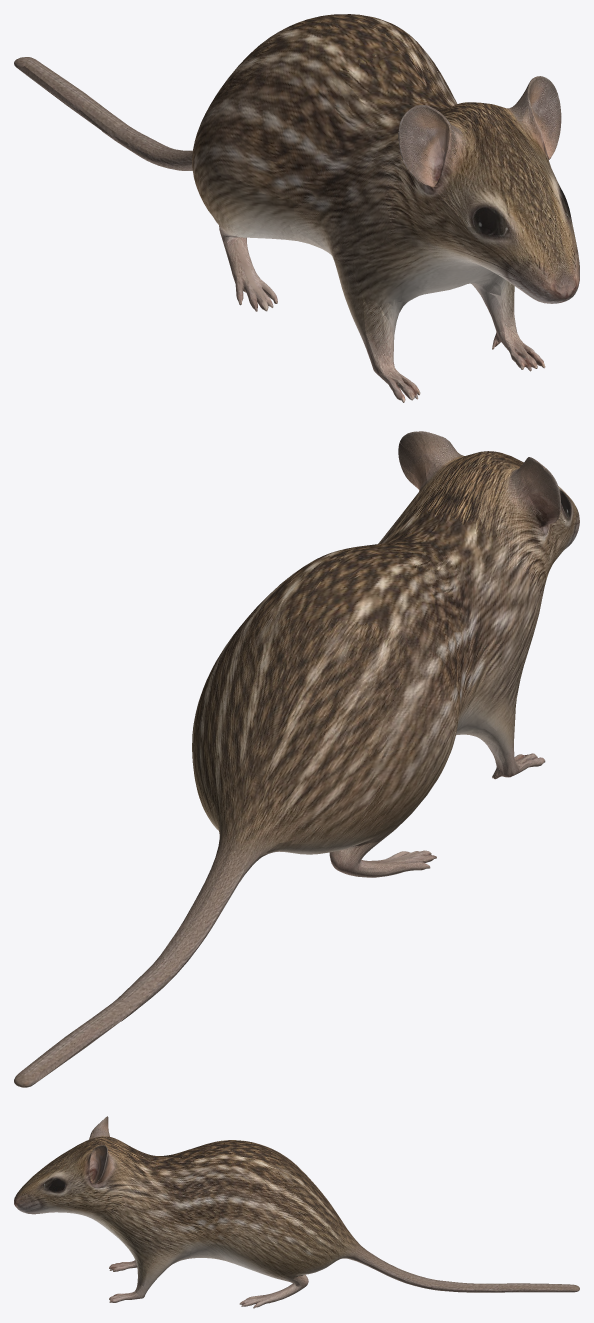
The model's file is striped-grass-mouse.glb.
The picture shows the model from 3 angles, top to bottom: view 1: azimuth 30°, elevation 25°; view 2: azimuth 150°, elevation 25°; view 3: azimuth 270°, elevation 25°; orthographic projection. The views are drawn at different scales.
Size of the model in its own units: 0.4547 by 0.5941 by 1.9.
Materials: 1 (1 with a texture image).
